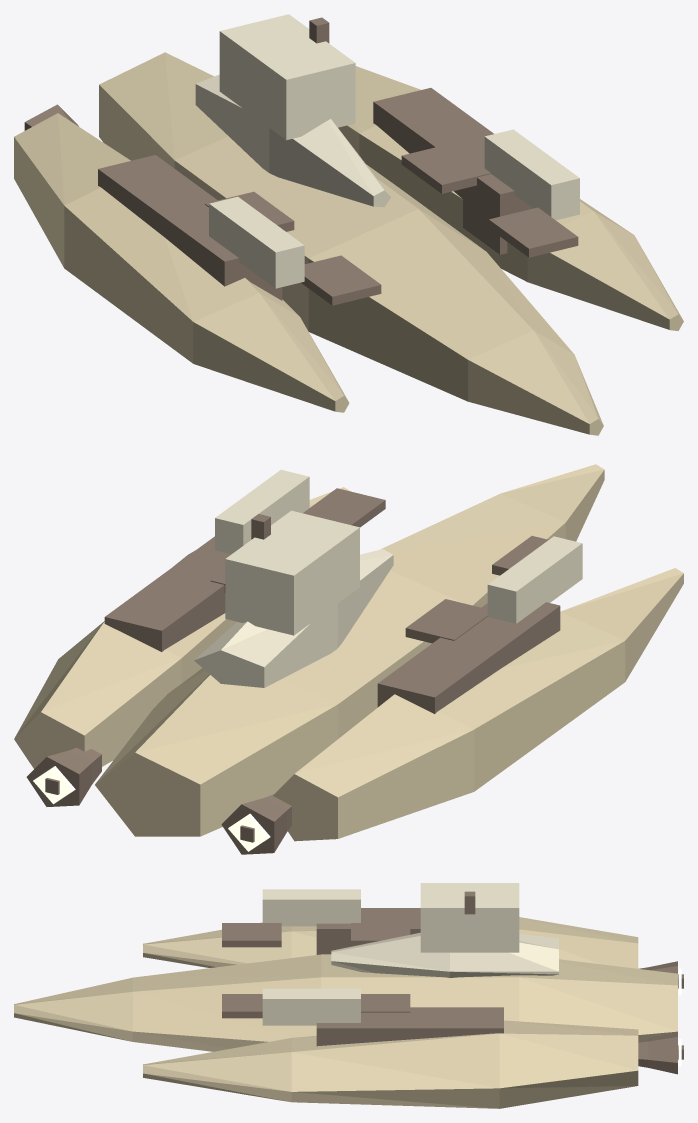
The picture shows the model from 3 angles, top to bottom: view 1: azimuth 30°, elevation 25°; view 2: azimuth 150°, elevation 25°; view 3: azimuth 270°, elevation 25°; orthographic projection. The views are drawn at different scales.
Size of the model in its own units: 15.28 by 7.69 by 27.19.
